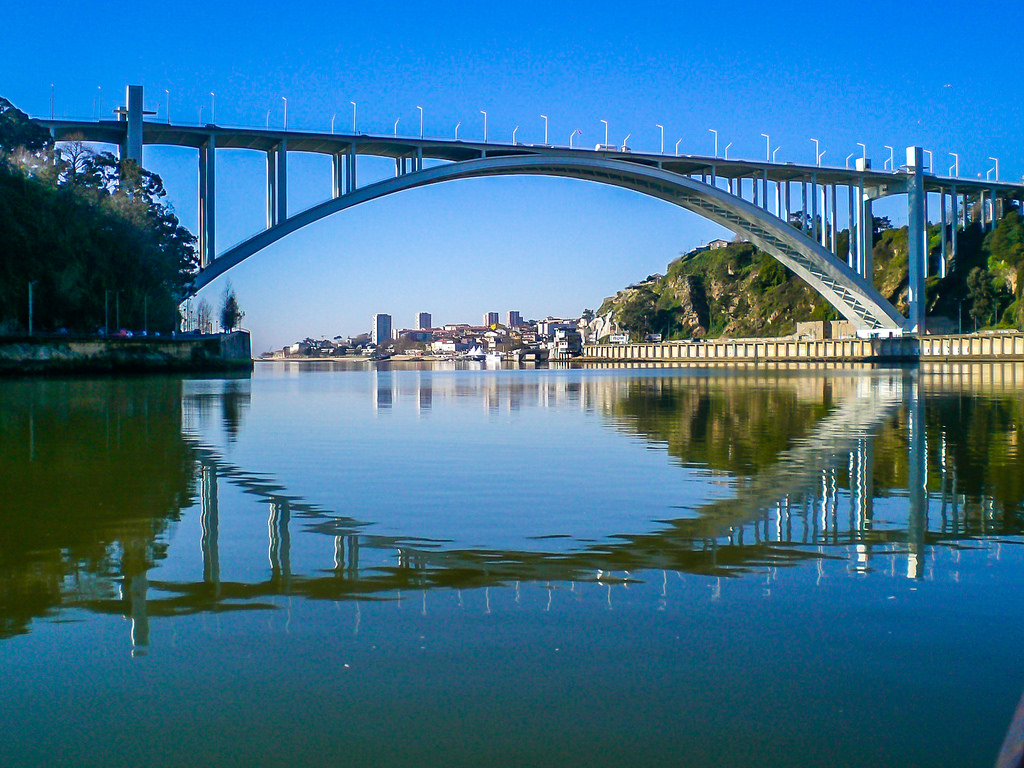arrabida: (43, 86, 1023, 338)
